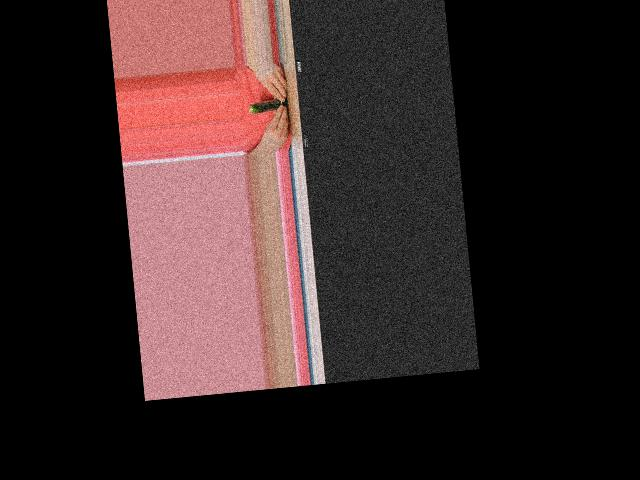cucumber: (248, 98, 288, 114)
